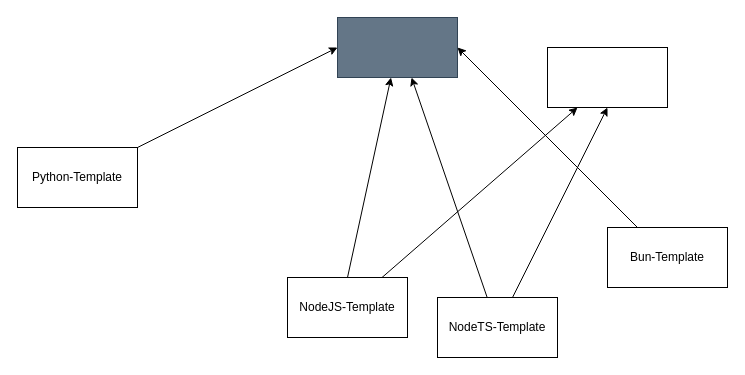
Some shapes in this 745 by 375 pixel diagram are drawn without their labels. The shapes that lost their labels are listed below. From the top down, each one's centre as x and y in pixels, then its label:
At (397,47): "Base-Template".
At (607,77): "NPM-Template".
